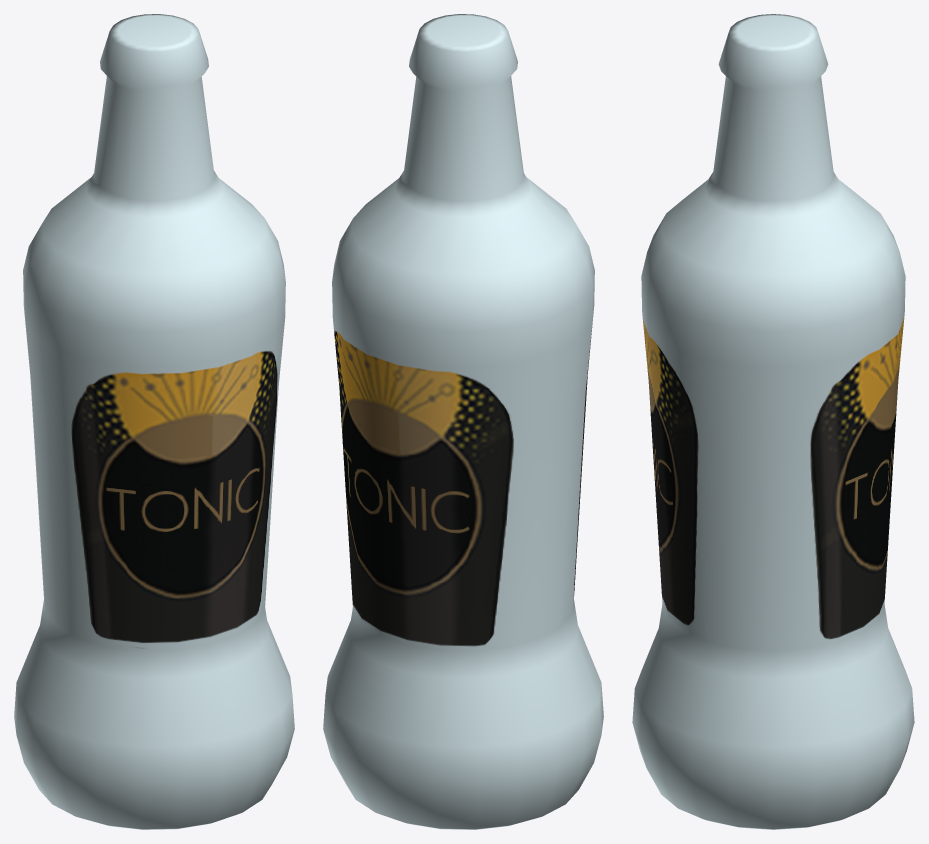
File: Bottle_Soda_Tonic.fbx
3 views of the same model, side by side, from view 1: azimuth 30°, elevation 25°; view 2: azimuth 150°, elevation 25°; view 3: azimuth 270°, elevation 25° (orthographic).
Parts seen in each view (by area): view 1: pCylinder29; view 2: pCylinder29; view 3: pCylinder29.
Boxes of the visible parts, x1,y1,x2,y2 form: pCylinder29: (14,14,294,829); pCylinder29: (323,14,603,829); pCylinder29: (632,14,914,829).
Size of the model in its own units: 1.25 by 3.68 by 1.25.
